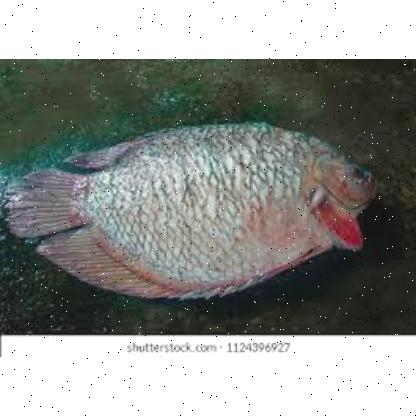gurame: (14, 124, 378, 298)
